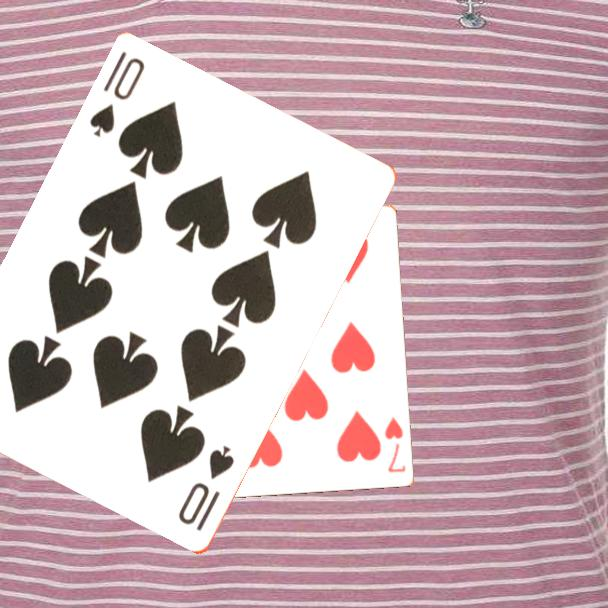h07: (381, 413, 409, 476)
s10: (174, 442, 238, 535), (86, 48, 148, 141)
